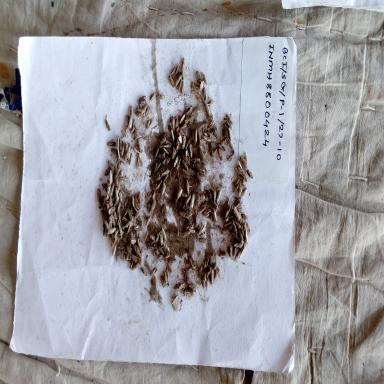pbw: (181, 266, 190, 282), (235, 164, 246, 177), (197, 221, 205, 237), (244, 218, 252, 234), (204, 102, 212, 118), (182, 289, 196, 298), (195, 69, 204, 83), (188, 142, 195, 160), (144, 118, 153, 132), (183, 192, 192, 206), (106, 225, 117, 236), (173, 280, 185, 290), (224, 203, 232, 218), (172, 154, 180, 169), (202, 72, 210, 86), (144, 258, 152, 272), (168, 74, 176, 88), (180, 158, 188, 172), (188, 256, 196, 270), (207, 132, 217, 143), (220, 227, 231, 237), (104, 164, 114, 175), (238, 224, 244, 242), (182, 132, 188, 150), (216, 188, 222, 206), (226, 113, 235, 125), (212, 205, 218, 223), (237, 153, 246, 165), (110, 236, 118, 249), (184, 217, 192, 230), (185, 179, 191, 196), (177, 209, 187, 219), (186, 281, 196, 291), (136, 131, 146, 141), (234, 197, 244, 207), (185, 104, 194, 115), (183, 113, 192, 124), (206, 98, 215, 109), (171, 293, 178, 307), (240, 186, 247, 200), (97, 195, 104, 209), (228, 138, 235, 152), (214, 265, 221, 279), (150, 198, 157, 212), (234, 206, 241, 220), (206, 119, 214, 131), (209, 269, 215, 285), (200, 272, 206, 288), (155, 179, 163, 191), (140, 265, 148, 277), (160, 273, 166, 289), (135, 152, 141, 168), (178, 112, 186, 124), (107, 159, 115, 171), (194, 210, 200, 226), (161, 226, 167, 242), (178, 132, 184, 148), (182, 153, 190, 165), (111, 242, 117, 258), (223, 123, 229, 139), (163, 267, 168, 286), (244, 226, 249, 245), (166, 260, 173, 273), (224, 196, 231, 209), (118, 252, 125, 265), (114, 165, 121, 178), (188, 226, 197, 236), (174, 113, 180, 128), (107, 205, 116, 215), (192, 156, 201, 166), (180, 166, 189, 176), (198, 235, 207, 245), (213, 188, 218, 206), (217, 142, 226, 152), (108, 169, 114, 184), (120, 142, 126, 157), (242, 150, 248, 165), (231, 230, 240, 240), (161, 168, 170, 178), (123, 142, 129, 157), (202, 258, 210, 269), (234, 240, 245, 248), (154, 172, 162, 183), (246, 168, 254, 179), (198, 205, 206, 216), (132, 145, 140, 156), (210, 146, 218, 157), (213, 203, 221, 214), (144, 192, 152, 203), (100, 210, 106, 224), (105, 118, 111, 132), (206, 187, 212, 201), (150, 266, 157, 278), (127, 210, 134, 222), (143, 106, 150, 118), (242, 170, 248, 184), (171, 147, 177, 161), (145, 214, 151, 228), (136, 139, 142, 153), (238, 247, 245, 259), (171, 73, 178, 85), (149, 90, 156, 102), (162, 154, 169, 166), (196, 171, 202, 185), (154, 242, 160, 256), (163, 241, 170, 253), (184, 138, 191, 150), (135, 244, 141, 258), (190, 80, 196, 94), (176, 156, 182, 170), (218, 147, 224, 161), (160, 182, 166, 196), (110, 182, 116, 196), (240, 212, 249, 221), (163, 252, 172, 261), (218, 250, 227, 259), (131, 253, 139, 263), (106, 139, 116, 147), (131, 261, 139, 271), (152, 274, 157, 290), (182, 230, 192, 238), (200, 200, 208, 210), (106, 184, 111, 200), (200, 170, 208, 180), (194, 84, 204, 92), (156, 92, 166, 100), (157, 246, 165, 256), (203, 207, 211, 217), (227, 152, 235, 162), (136, 237, 142, 250), (114, 174, 120, 187), (197, 263, 203, 276), (126, 222, 132, 235), (237, 184, 243, 197), (159, 135, 166, 146), (123, 195, 129, 207), (194, 127, 198, 145), (104, 218, 110, 230), (180, 190, 188, 199), (132, 128, 138, 140), (138, 93, 146, 102), (233, 182, 239, 194), (155, 254, 164, 262), (203, 130, 209, 142), (176, 74, 182, 86), (175, 64, 181, 76), (113, 227, 119, 239), (209, 124, 218, 132), (199, 147, 205, 159), (153, 148, 159, 160), (118, 214, 124, 226), (232, 221, 238, 233), (157, 152, 166, 160), (199, 80, 206, 90), (128, 115, 133, 129), (115, 250, 120, 264), (143, 230, 148, 244), (137, 190, 142, 204), (188, 264, 198, 271), (170, 127, 175, 141), (96, 187, 101, 201), (128, 152, 133, 166), (234, 176, 240, 187), (141, 103, 147, 114), (155, 161, 161, 172), (209, 253, 214, 266), (212, 260, 217, 273), (123, 125, 128, 138), (232, 246, 237, 259), (202, 212, 210, 220), (116, 244, 124, 252), (134, 192, 138, 208), (206, 275, 210, 291), (220, 137, 228, 145), (110, 147, 118, 155), (119, 190, 123, 206), (120, 168, 124, 184), (181, 80, 185, 96), (168, 256, 176, 264), (122, 215, 130, 223), (172, 115, 176, 131), (162, 147, 170, 155), (159, 231, 163, 247), (198, 131, 202, 147), (109, 213, 113, 229), (101, 181, 108, 190), (162, 173, 169, 182), (133, 211, 140, 220), (196, 94, 203, 103), (126, 147, 131, 159), (153, 161, 158, 173), (162, 130, 168, 140), (171, 65, 177, 75), (202, 87, 206, 102), (178, 79, 182, 94), (134, 105, 140, 115), (195, 166, 205, 172), (213, 131, 219, 141), (115, 187, 119, 202), (124, 220, 130, 230), (229, 244, 233, 259), (146, 244, 154, 251), (228, 126, 232, 140), (165, 138, 172, 146), (116, 134, 120, 148), (133, 223, 140, 231), (138, 99, 146, 106), (186, 210, 194, 217), (176, 136, 180, 150), (166, 265, 170, 279), (136, 107, 144, 114), (166, 155, 171, 166), (130, 237, 136, 246), (119, 240, 128, 246), (131, 194, 135, 207), (112, 213, 116, 226), (129, 259, 134, 269), (133, 204, 138, 214), (126, 244, 132, 252), (125, 251, 129, 263), (142, 134, 150, 140), (180, 67, 184, 79), (132, 117, 136, 129), (152, 190, 156, 202), (178, 128, 184, 136), (117, 149, 121, 161), (129, 104, 133, 116), (156, 231, 160, 242), (125, 114, 129, 125), (135, 229, 139, 240), (116, 202, 120, 213), (150, 234, 156, 241), (224, 221, 231, 227), (140, 250, 143, 264), (130, 127, 135, 135), (182, 57, 185, 70), (119, 138, 122, 151), (180, 124, 187, 129), (164, 144, 172, 148)
